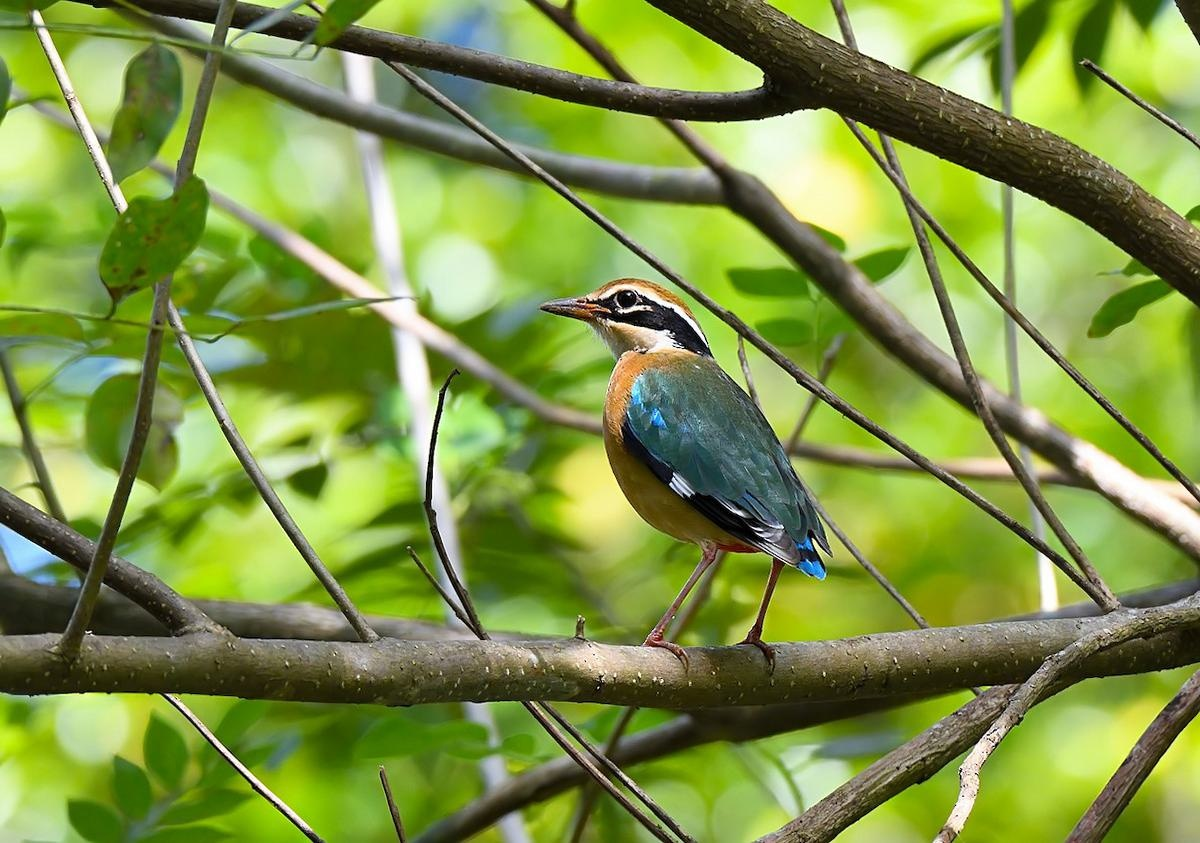pitta: (537, 258, 843, 703)
